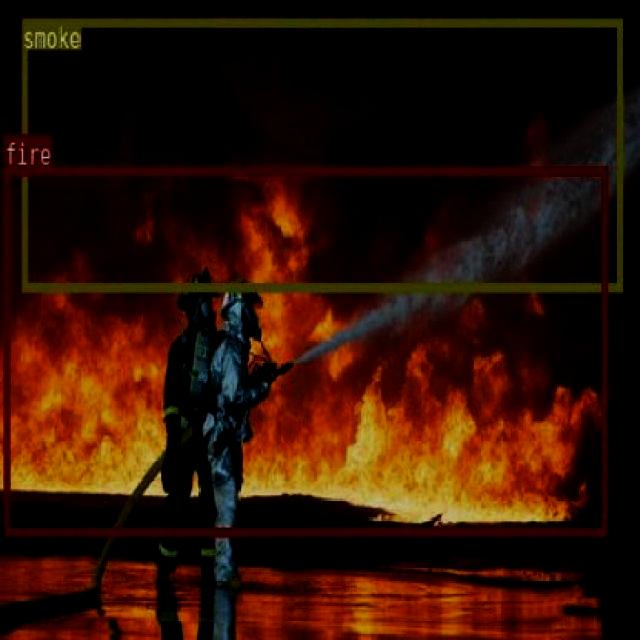fire: (3, 164, 606, 536)
smoke: (20, 18, 622, 290)
